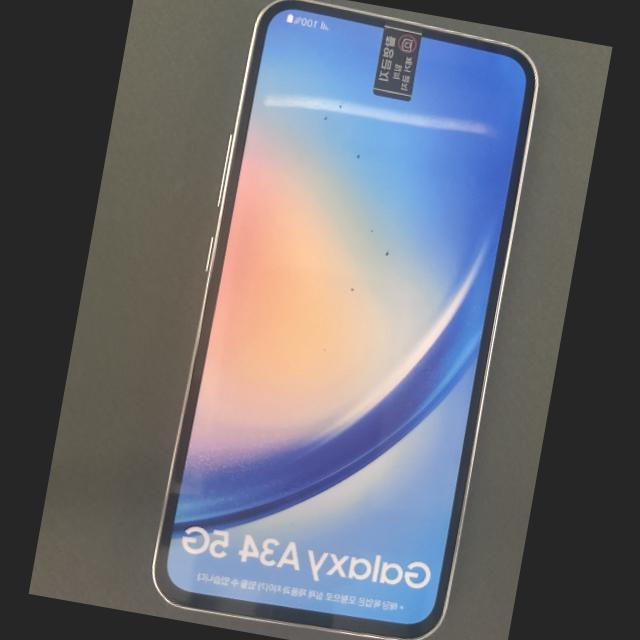phone: (153, 0, 535, 639)
sticker: (373, 21, 420, 100)
